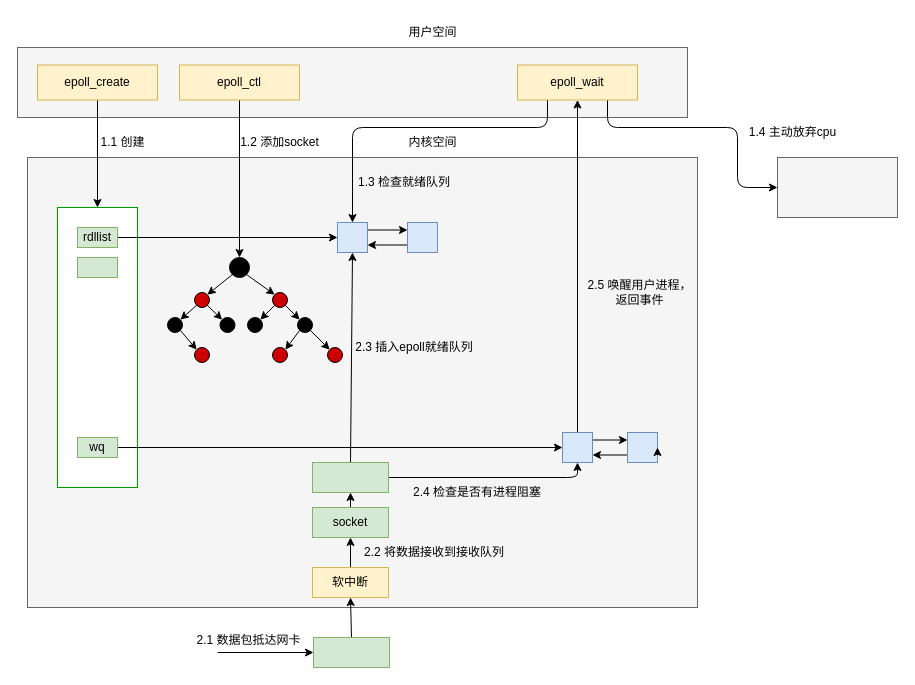
Image size: 915x685. Some labels were removed from this diagram. Here are the shapes that lost their labels. From the top down, the box of each, then its label:
(776, 156, 898, 218): 进程B
(76, 256, 118, 278): rbr
(312, 462, 388, 492): epitem
(312, 636, 390, 668): 网卡
